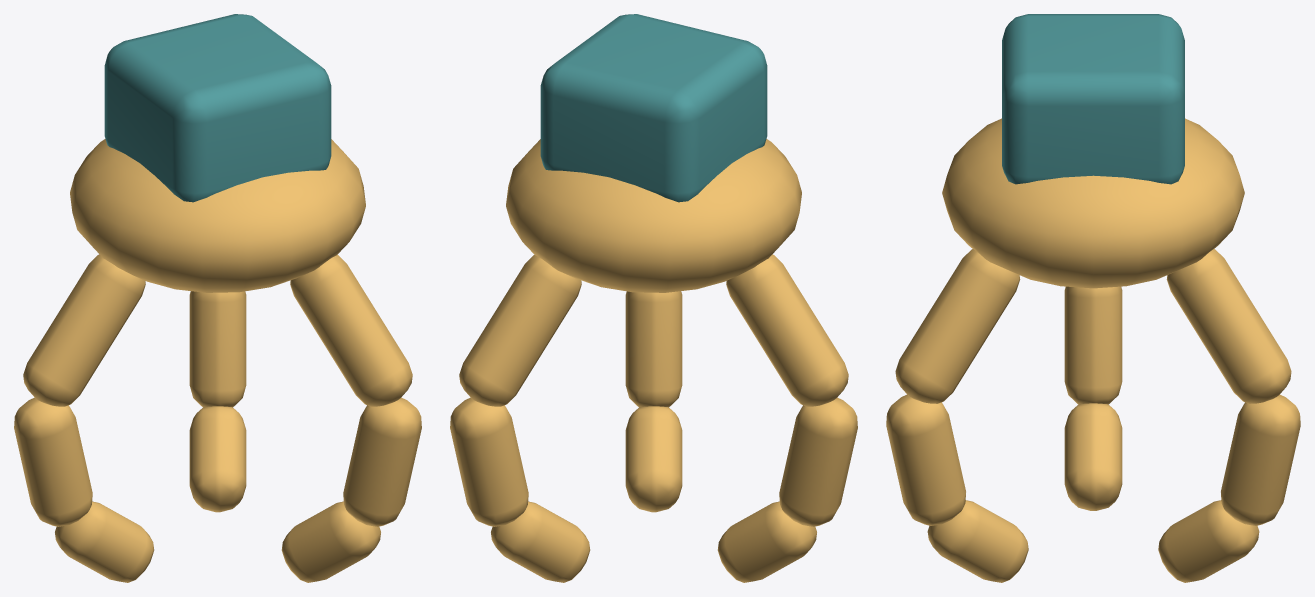
File: Claw.fbx
3 renders of one model, left to right at view 1: azimuth 30°, elevation 25°; view 2: azimuth 150°, elevation 25°; view 3: azimuth 270°, elevation 25°, orthographic.
Parts seen in each view (by area): view 1: Claw cuff, Claw dome, Curved claw finger, Curved claw finger.003, Curved claw finger.001, Curved claw finger.004, Curved claw finger.007, Curved claw finger.008, Curved claw finger.002, Curved claw finger.005; view 2: Claw cuff, Claw dome, Curved claw finger, Curved claw finger.006, Curved claw finger.001, Curved claw finger.007, Curved claw finger.004, Curved claw finger.005, Curved claw finger.002, Curved claw finger.008; view 3: Claw dome, Claw cuff, Curved claw finger.003, Curved claw finger.006, Curved claw finger.004, Curved claw finger.007, Curved claw finger.001, Curved claw finger.002, Curved claw finger.005, Curved claw finger.008.
Boxes of the visible parts, x1,y1,x2,y2 form: Claw cuff: [104, 14, 331, 202]; Claw dome: [70, 139, 365, 292]; Curved claw finger: [23, 254, 145, 406]; Curved claw finger.003: [290, 255, 412, 406]; Curved claw finger.001: [14, 397, 92, 526]; Curved claw finger.004: [343, 397, 421, 526]; Curved claw finger.007: [189, 291, 246, 407]; Curved claw finger.008: [189, 406, 246, 512]; Curved claw finger.002: [55, 501, 154, 582]; Curved claw finger.005: [281, 501, 380, 582]; Claw cuff: [540, 14, 767, 202]; Claw dome: [506, 139, 801, 292]; Curved claw finger: [726, 254, 848, 406]; Curved claw finger.006: [459, 255, 581, 406]; Curved claw finger.001: [779, 397, 857, 526]; Curved claw finger.007: [450, 397, 528, 526]; Curved claw finger.004: [625, 291, 682, 407]; Curved claw finger.005: [625, 406, 682, 512]; Curved claw finger.002: [717, 501, 816, 582]; Curved claw finger.008: [491, 501, 590, 582]; Claw dome: [942, 118, 1244, 288]; Claw cuff: [1002, 14, 1184, 184]; Curved claw finger.003: [895, 249, 1020, 403]; Curved claw finger.006: [1166, 249, 1291, 403]; Curved claw finger.004: [886, 394, 965, 525]; Curved claw finger.007: [1221, 394, 1300, 525]; Curved claw finger.001: [1064, 286, 1122, 404]; Curved claw finger.002: [1064, 403, 1122, 510]; Curved claw finger.005: [927, 500, 1028, 582]; Curved claw finger.008: [1158, 500, 1259, 582].
Bounding box in the file's own units: 0.7377 × 1.08 × 0.7942.
